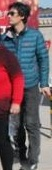boots: (20, 159, 38, 170), (0, 164, 12, 170)
hard-hat: (0, 59, 12, 82)
